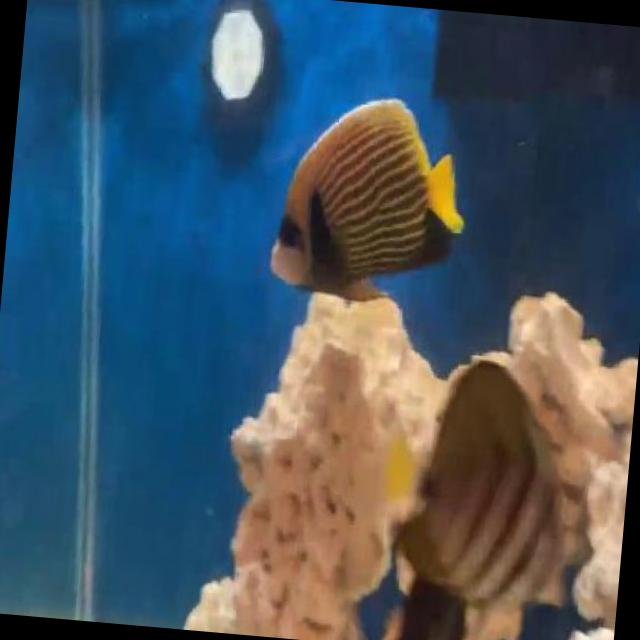AngelFish: (268, 85, 476, 304)
